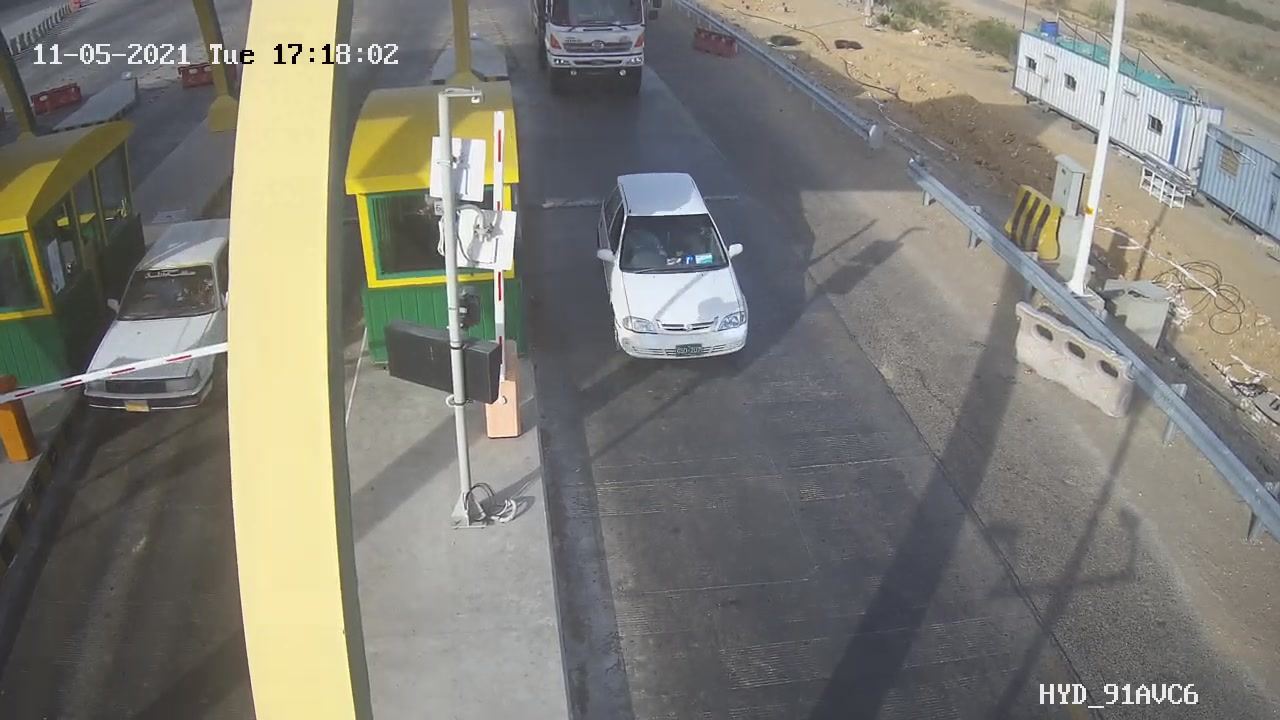F1: (578, 159, 765, 378)
